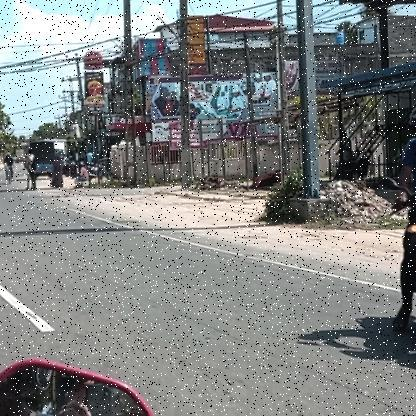motorcycle: (384, 181, 416, 376)
